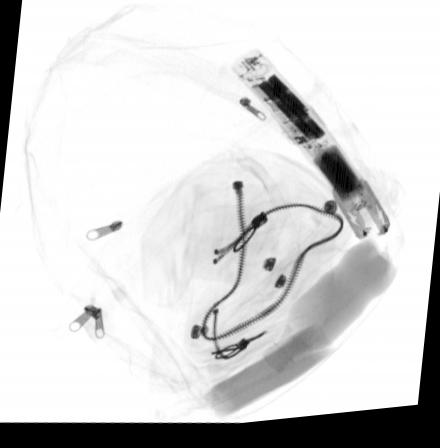Baton: (228, 52, 390, 248)
